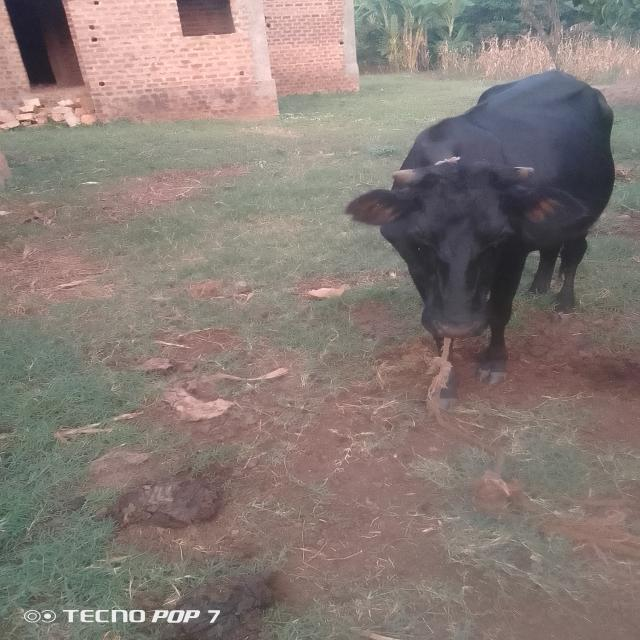Front: (347, 70, 613, 382)
